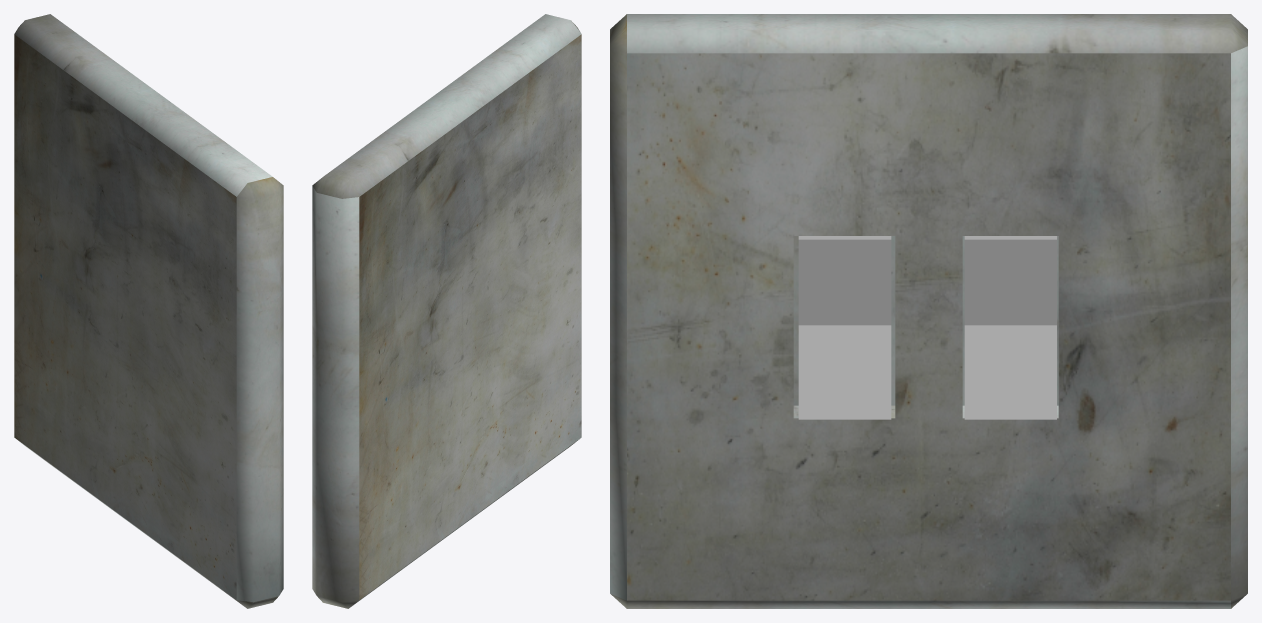
Rendered from Vikluch.fbx.
3 views of the same model, side by side, from view 1: azimuth 30°, elevation 25°; view 2: azimuth 150°, elevation 25°; view 3: azimuth 270°, elevation 25° (orthographic). The views are drawn at different scales.
Visible parts, largest first — view 1: Cube; view 2: Cube; view 3: Cube, Cube.001, Cube.002.
Part boxes in pixels (left/top/right/bottom): Cube: left=14, top=14, right=283, bottom=608; Cube: left=312, top=14, right=581, bottom=608; Cube: left=610, top=14, right=1247, bottom=608; Cube.001: left=798, top=236, right=891, bottom=419; Cube.002: left=964, top=236, right=1056, bottom=419.
Bounding box in the file's own units: 33.72 × 200 × 200.
